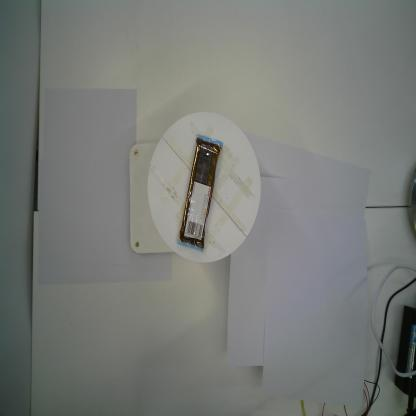Chocolate: (177, 134, 224, 251)
